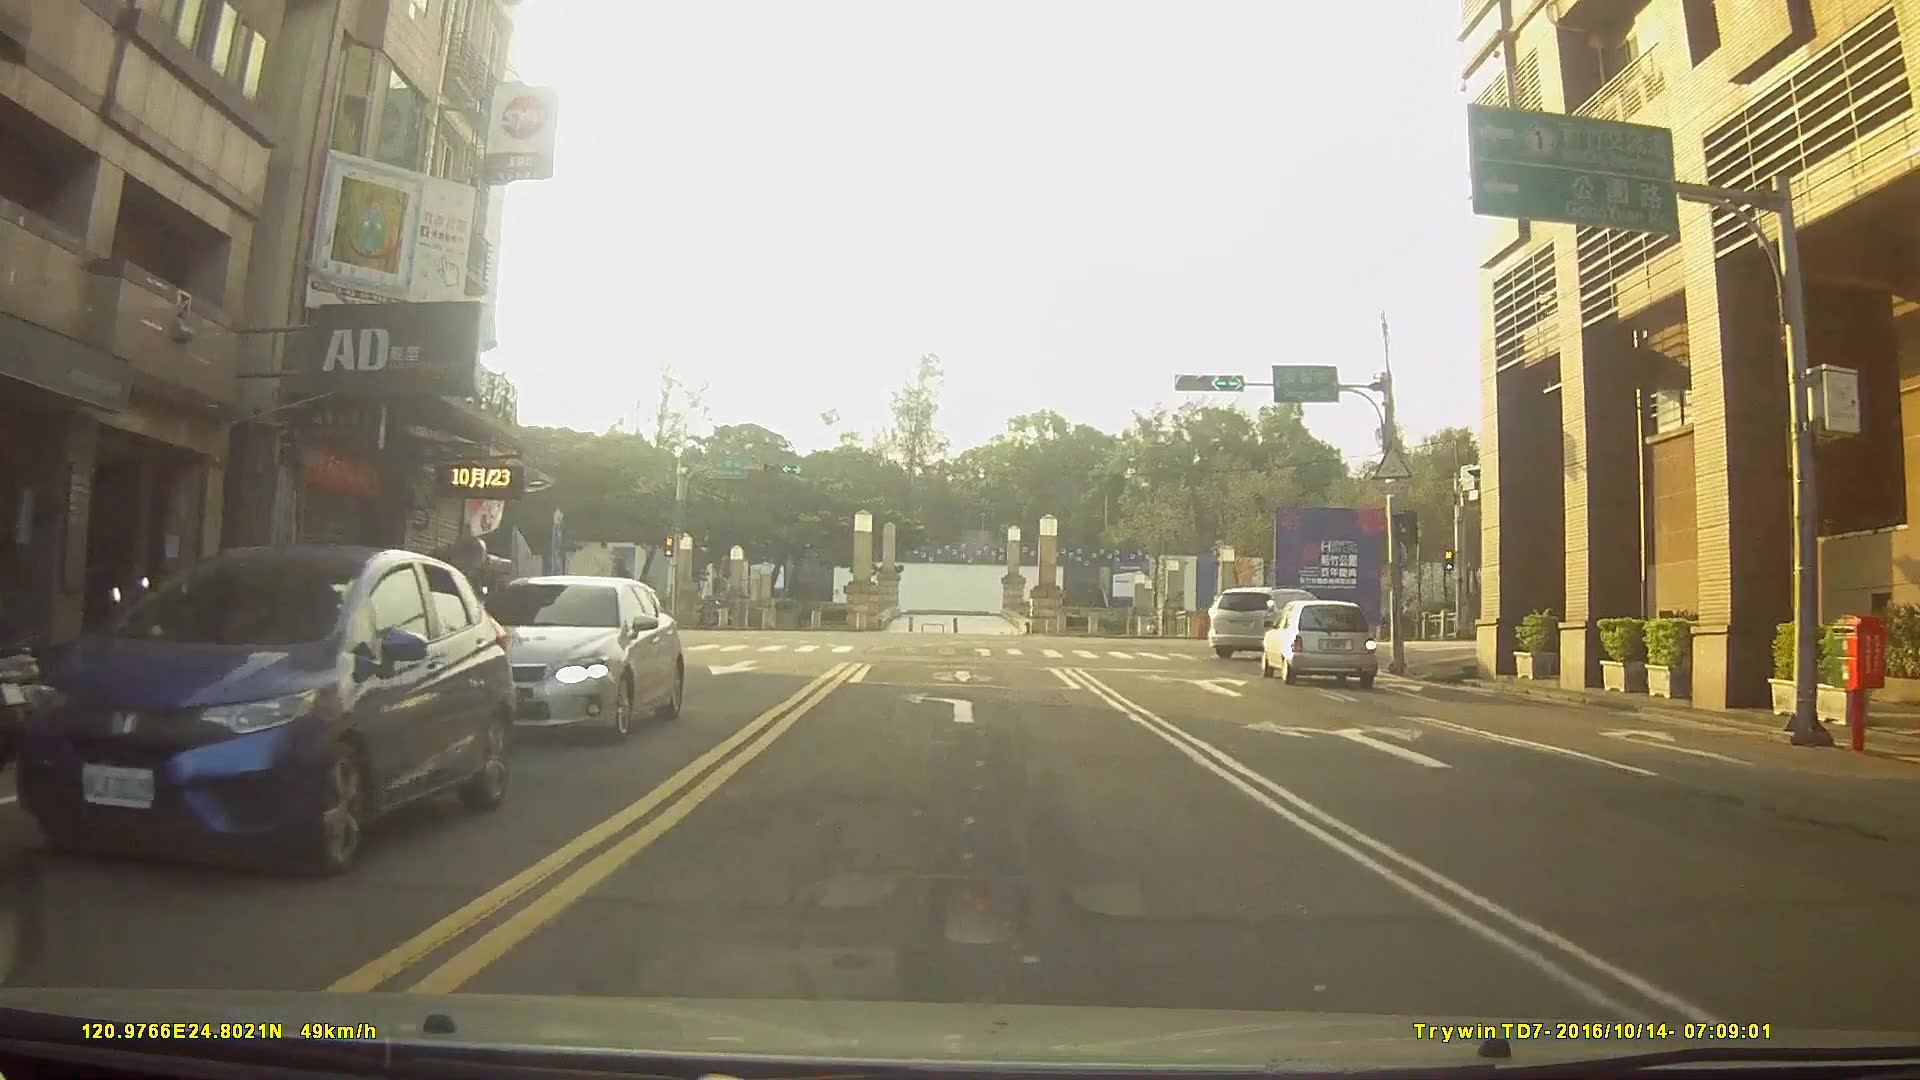vehicle: (15, 541, 512, 880), (455, 574, 680, 742), (1261, 599, 1377, 684), (1207, 585, 1338, 659)
